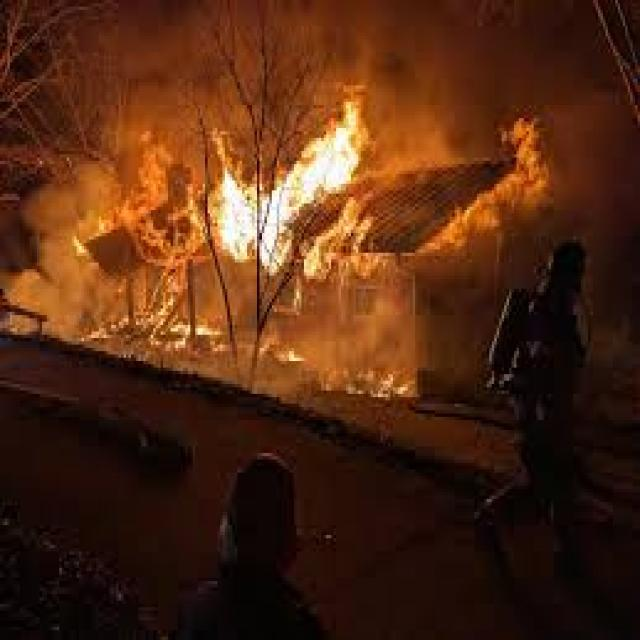fire: (300, 83, 362, 156), (222, 167, 256, 263), (261, 202, 291, 276), (501, 116, 547, 160), (306, 155, 359, 193), (260, 161, 307, 203), (514, 161, 550, 210), (138, 130, 166, 184), (442, 205, 474, 247)
